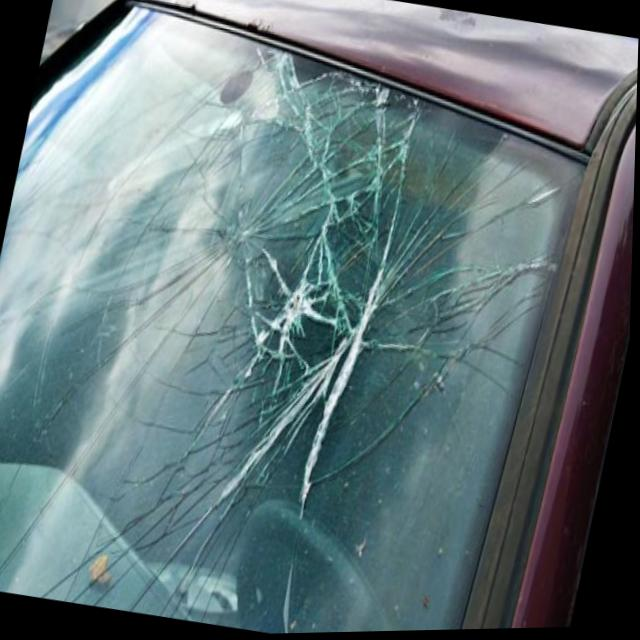Glass_Break: (1, 31, 578, 640)
